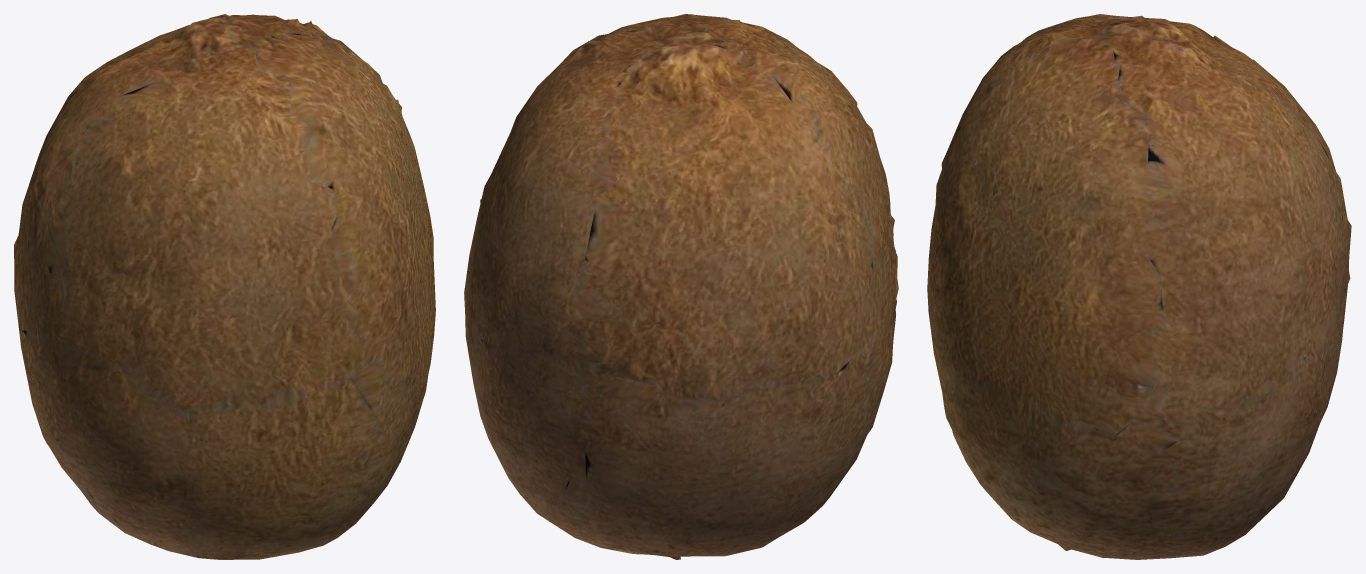
The model's file is food_kiwi_01.glb.
The picture shows the model from 3 angles, left to right: view 1: azimuth 30°, elevation 25°; view 2: azimuth 150°, elevation 25°; view 3: azimuth 270°, elevation 25°; orthographic projection.
Parts seen in each view (by area): view 1: food_kiwi_01; view 2: food_kiwi_01; view 3: food_kiwi_01.
Part boxes in pixels (<box>): food_kiwi_01: <box>14,14,435,559</box>; food_kiwi_01: <box>464,14,898,559</box>; food_kiwi_01: <box>927,14,1351,559</box>.
Bounding box in the file's own units: 0.0692 × 0.09 × 0.0686.
Materials: 1 (1 with a texture image).
